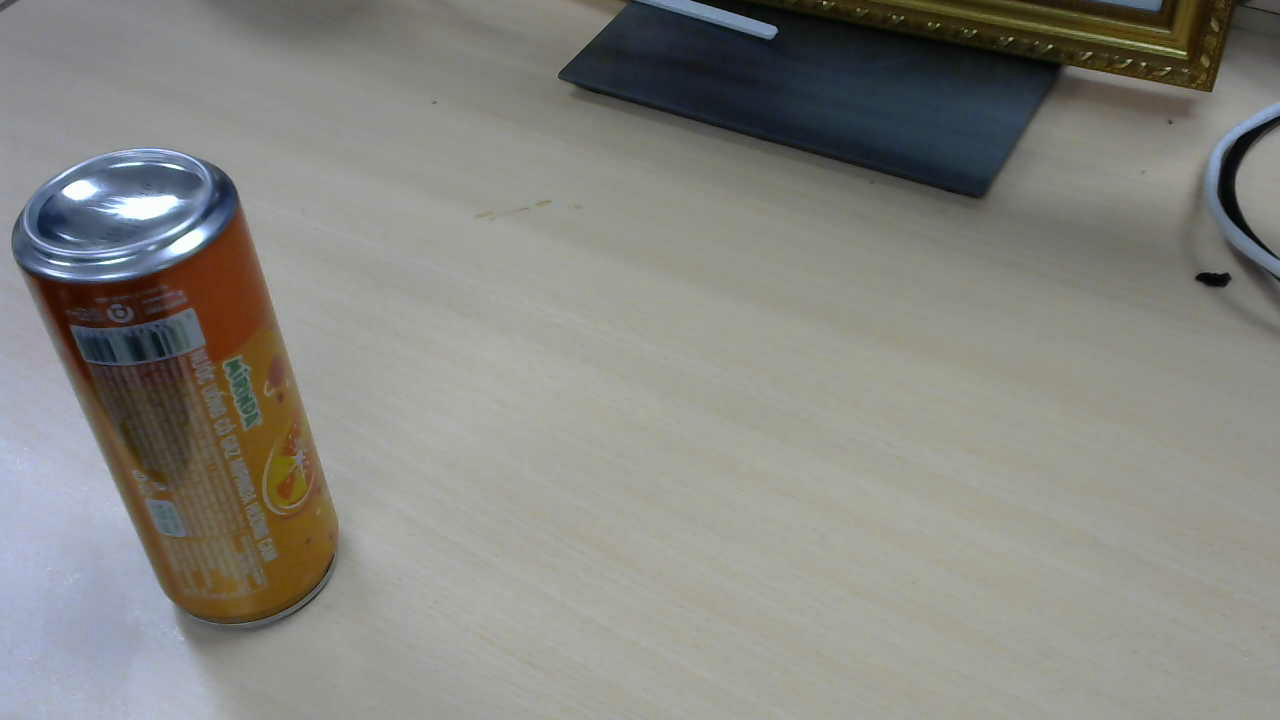Mirinda: (16, 151, 346, 633)
